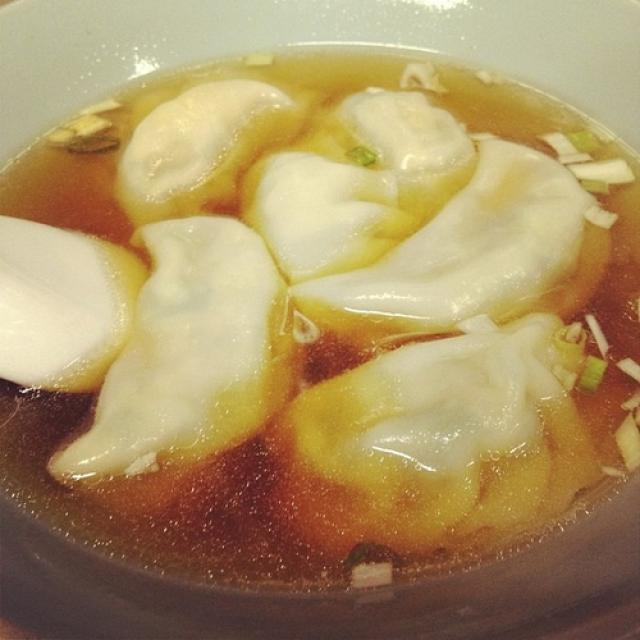带馅早点: (19, 32, 621, 618)
